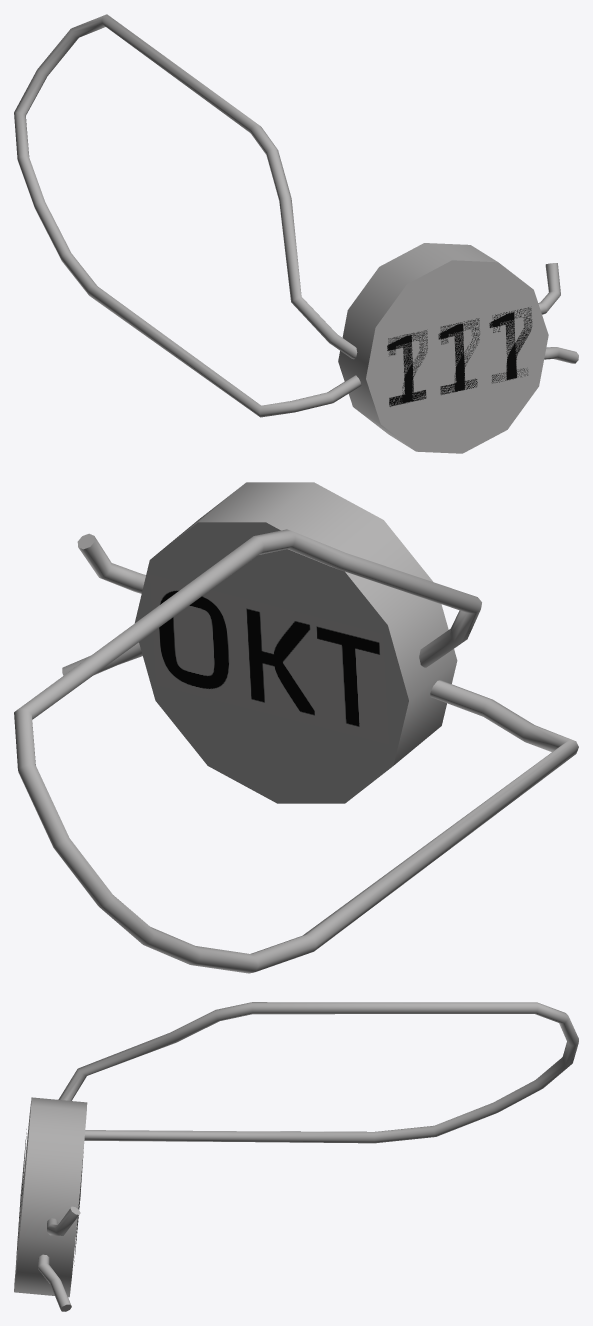
File: Vagon_tambur_stop_karn_Stamp_Tambur_01 1.fbx
3 renders of one model, top to bottom at view 1: azimuth 30°, elevation 25°; view 2: azimuth 150°, elevation 25°; view 3: azimuth 270°, elevation 25°, orthographic. The views are drawn at different scales.
Parts seen in each view (by area): view 1: Vagon_tambur_stop_karn_Stamp_Tambur_01; view 2: Vagon_tambur_stop_karn_Stamp_Tambur_01; view 3: Vagon_tambur_stop_karn_Stamp_Tambur_01.
Boxes of the visible parts, x1,y1,x2,y2 form: Vagon_tambur_stop_karn_Stamp_Tambur_01: (14, 14, 578, 453); Vagon_tambur_stop_karn_Stamp_Tambur_01: (14, 482, 578, 973); Vagon_tambur_stop_karn_Stamp_Tambur_01: (14, 1002, 578, 1311).
Bounding box in the file's own units: 0.0205 × 0.0157 × 0.0325.
